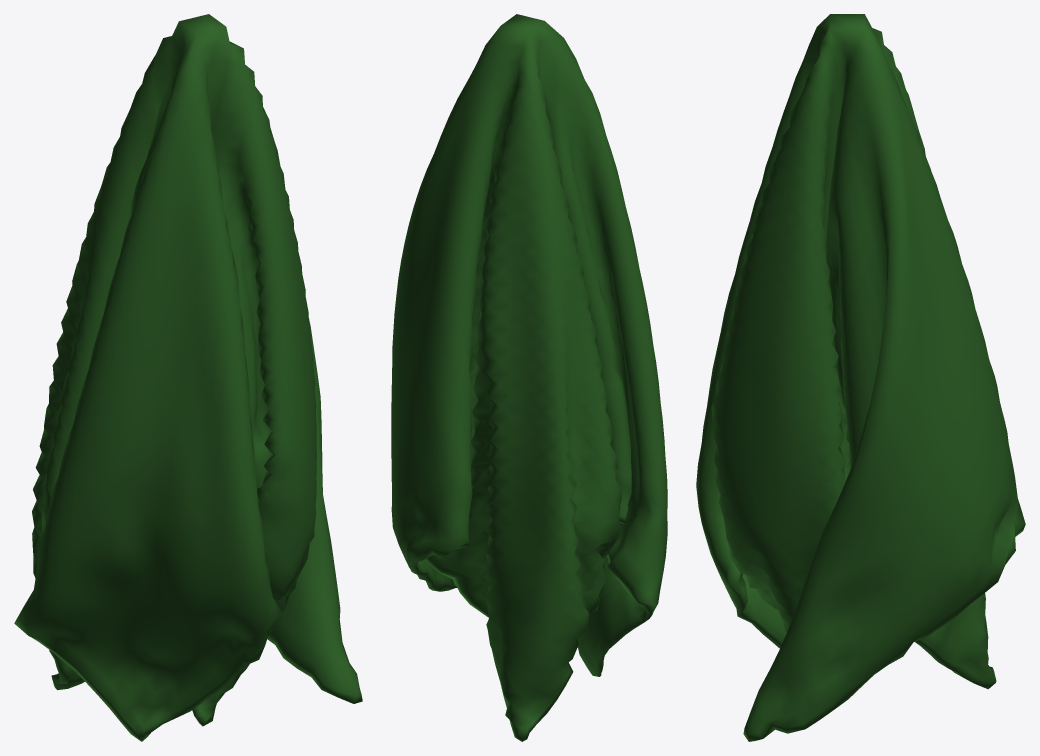
The model's file is item10.fbx.
The picture shows the model from 3 angles, left to right: view 1: azimuth 30°, elevation 25°; view 2: azimuth 150°, elevation 25°; view 3: azimuth 270°, elevation 25°; orthographic projection. The views are drawn at different scales.
Parts seen in each view (by area): view 1: Plane.004; view 2: Plane.004; view 3: Plane.004.
Part boxes in pixels (left/top/right/bottom): Plane.004: left=14, top=14, right=362, bottom=741; Plane.004: left=391, top=14, right=667, bottom=741; Plane.004: left=696, top=14, right=1025, bottom=741.
Bounding box in the file's own units: 140 × 325 × 139.
